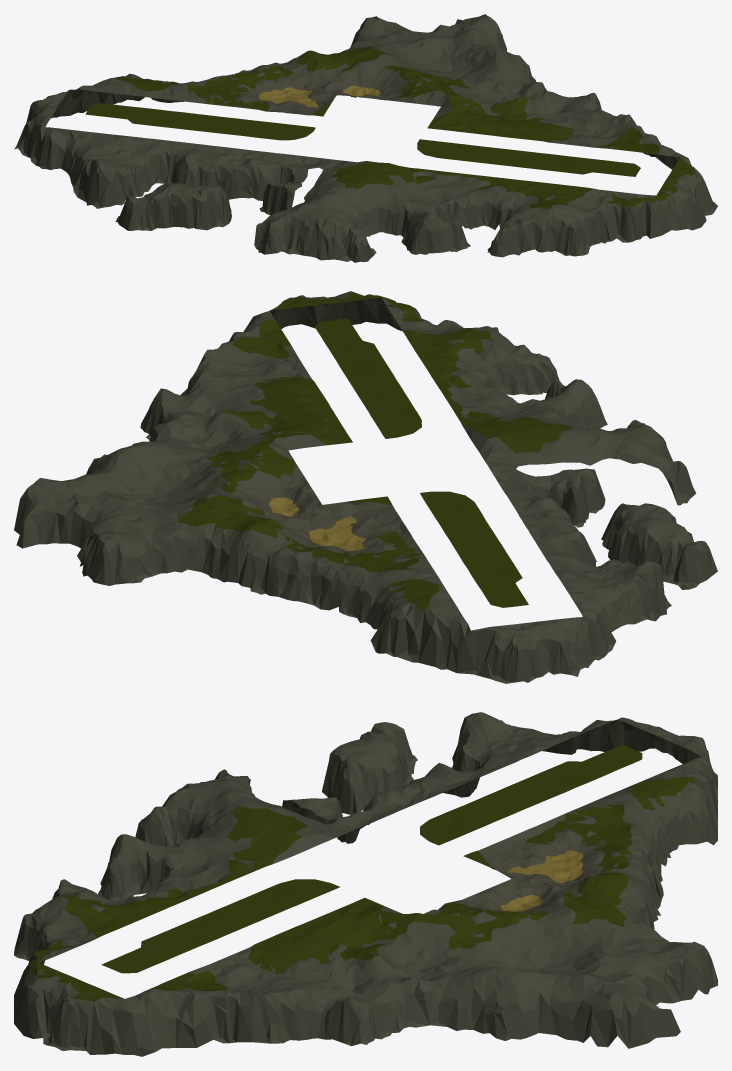
Rendered from Multiplayer.glb.
3 renders of one model, top to bottom at view 1: azimuth 30°, elevation 25°; view 2: azimuth 150°, elevation 25°; view 3: azimuth 270°, elevation 25°, orthographic. The views are drawn at different scales.
Visible parts, largest first — view 1: island_43_multiplayer_base; view 2: island_43_multiplayer_base; view 3: island_43_multiplayer_base.
Boxes of the visible parts, x1,y1,x2,y2 form: island_43_multiplayer_base: (14,14,717,262); island_43_multiplayer_base: (14,291,717,683); island_43_multiplayer_base: (14,712,717,1056).
Bounding box in the file's own units: 1016 × 93.43 × 1000.
